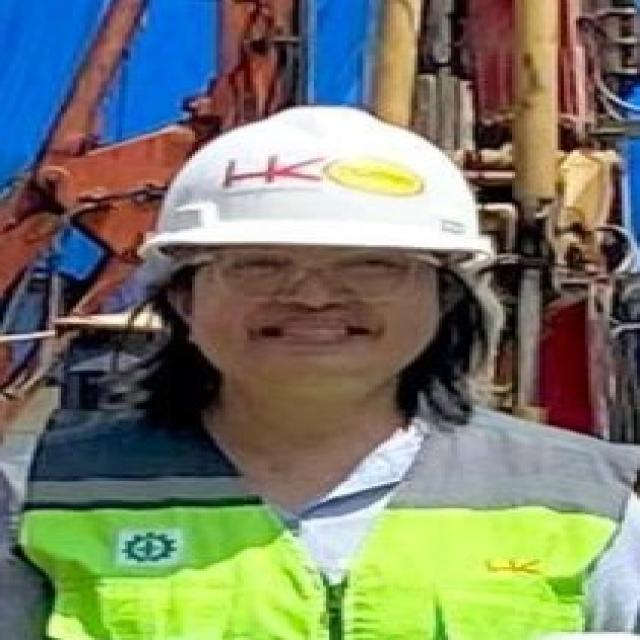safetyhelmet: (140, 96, 503, 341)
